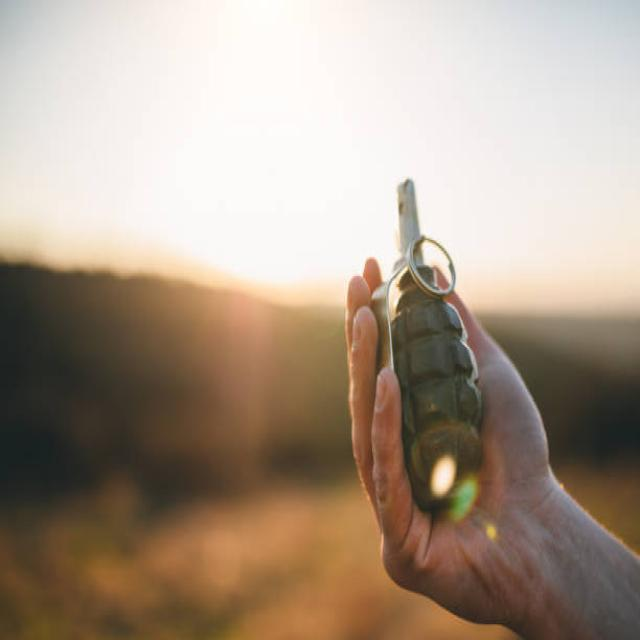grenade: (369, 175, 489, 517)
